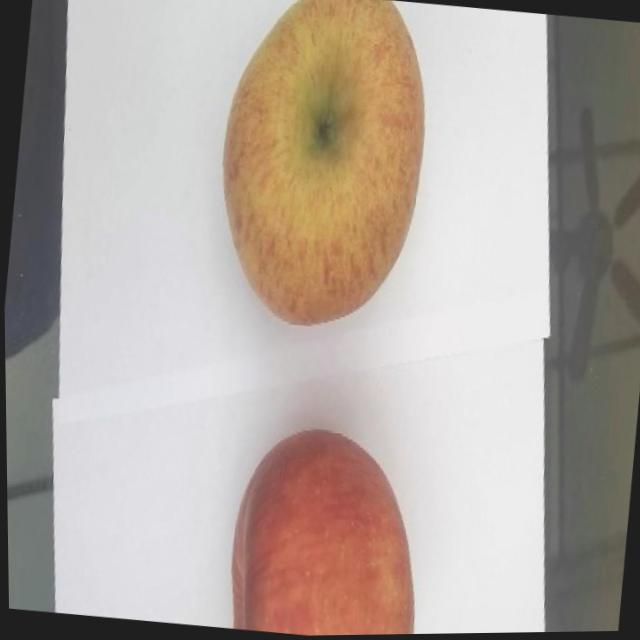Apple: (203, 0, 441, 340), (221, 421, 432, 637)
